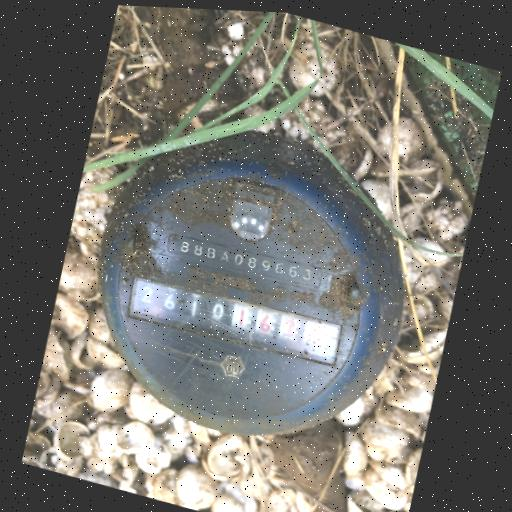0: (201, 296, 234, 335)
1: (223, 301, 258, 341), (177, 290, 210, 330)
2: (131, 279, 163, 319)
3: (273, 312, 308, 353)
6: (249, 306, 283, 347), (155, 285, 188, 325)
8: (298, 318, 333, 358)
border_water_meter_number: (124, 268, 346, 375)
